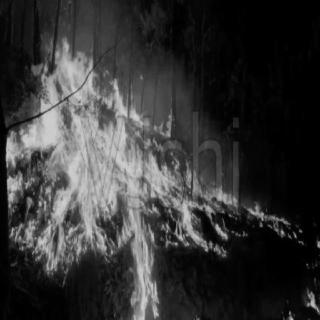Fire: (7, 27, 241, 316)
